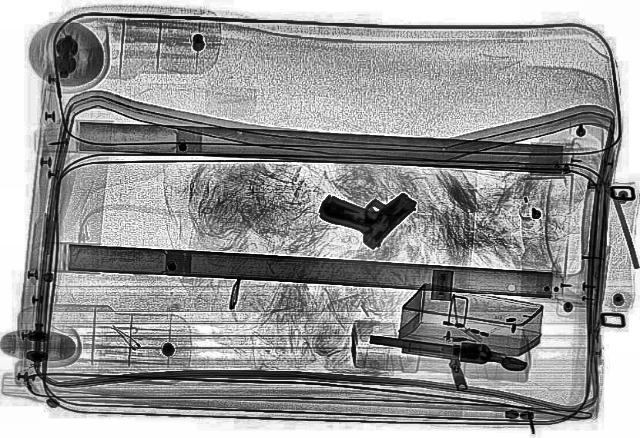Gun: (304, 172, 430, 250), (364, 331, 532, 371)
